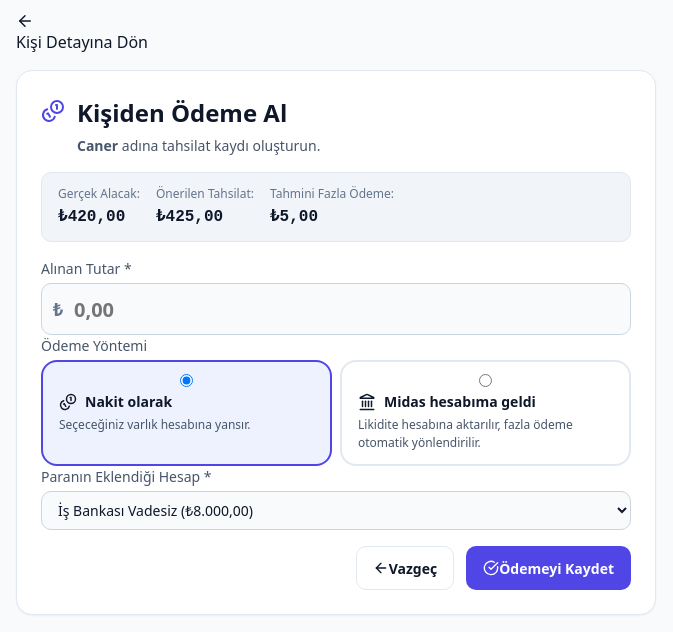
it: F6 Settlements — Root Orchestrator, Waterfall, Cash vs Midas & Payable Overpayment Guard › shows cash-retained notice on cash overpayment and does not fabricate waterfall allocations
The image size is (673, 632).
Expected: the radio button with test id "method-cash-radio" is shown, [59,374,314,387]
Type "500.00" into the field with test id "money-input" at (336, 309), box [41,283,631,335]
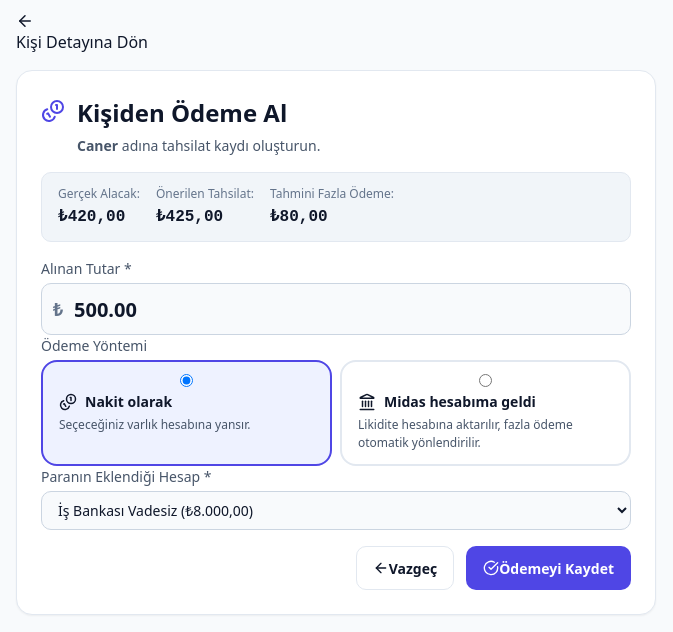
Click the button with test id "settle-submit-btn" at (549, 568), box [466,546,631,590]
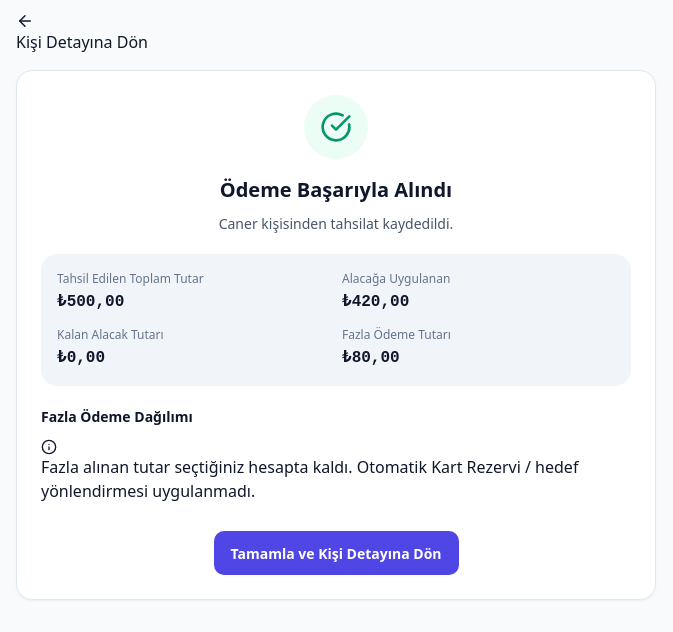
Expected: the element with test id "cash-retained-notice" is shown, [41,439,631,503]
Expected: the element with test id "cash-retained-notice" shows "Fazla alınan tutar seçtiğiniz hesapta kaldı. Otomatik Kart Rezervi / hedef yönlendirmesi uygulanmadı.", [41,456,578,502]
